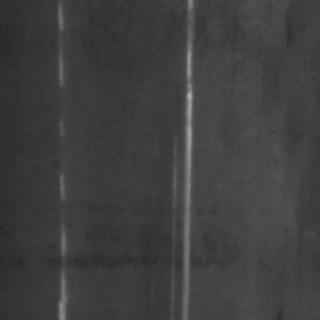scratches: (171, 0, 195, 318), (49, 76, 66, 316), (48, 0, 68, 92)
